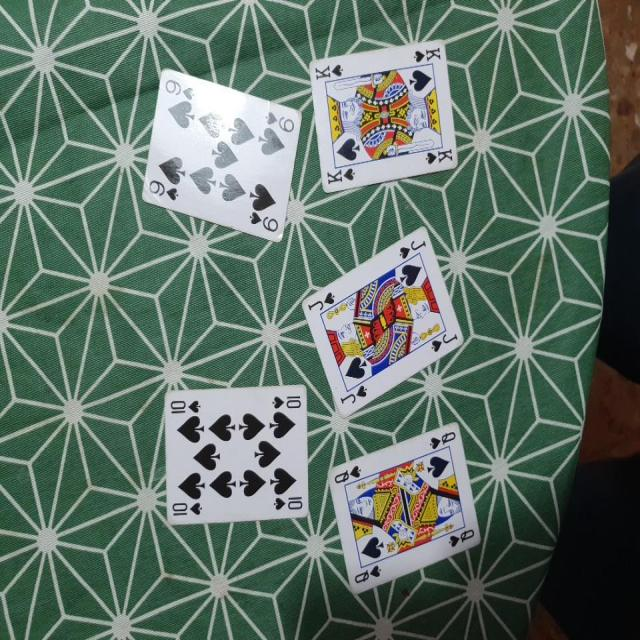10 Spades: (156, 374, 310, 527)
9 Spades: (142, 64, 307, 245)
J Spades: (299, 229, 466, 426)
K Spades: (312, 33, 462, 195)
Q Spades: (327, 420, 489, 602)
